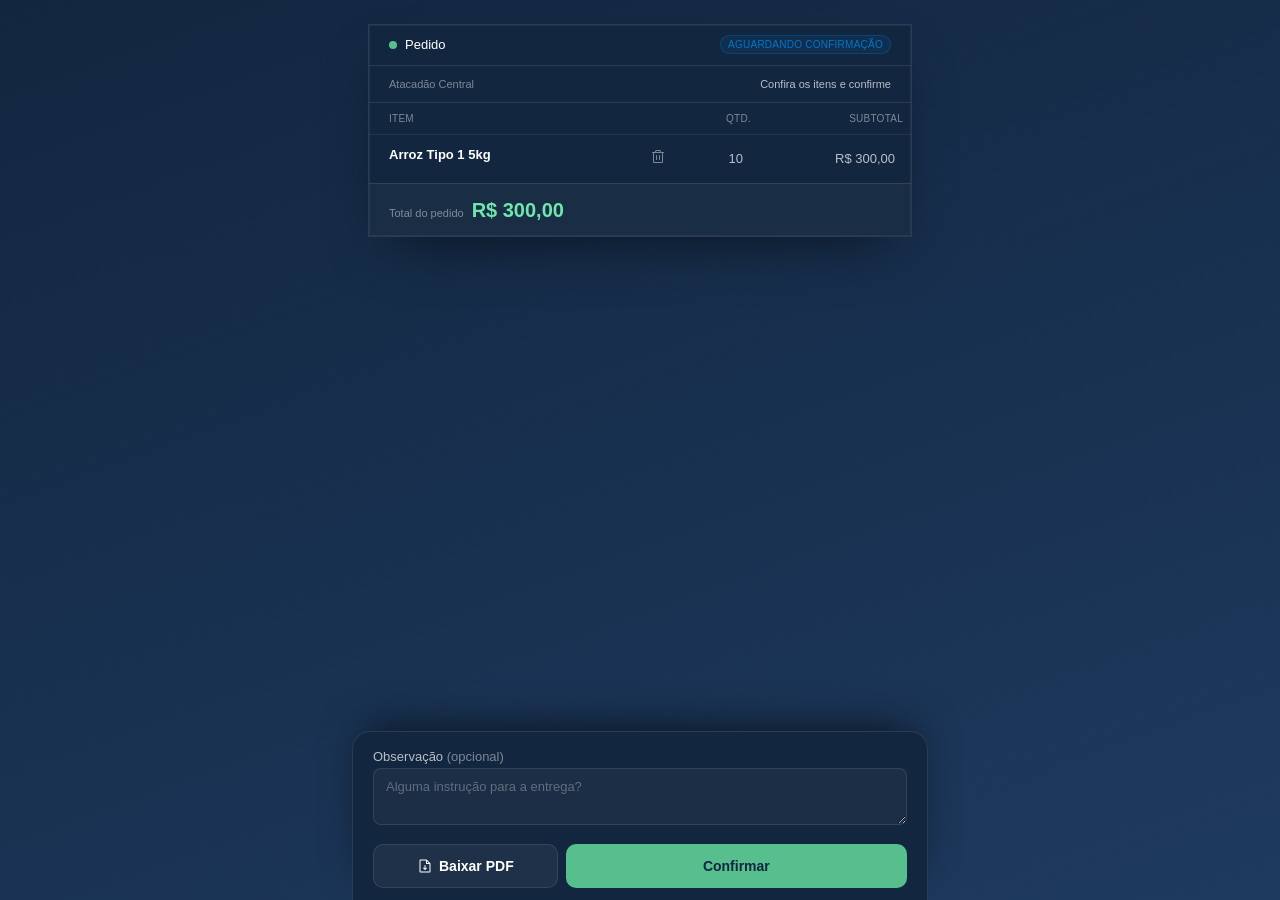
Scenario: erro ProblemDetail na confirmação é exibido
Click the button "Confirmar" at point(736, 866), box [566, 844, 907, 888]
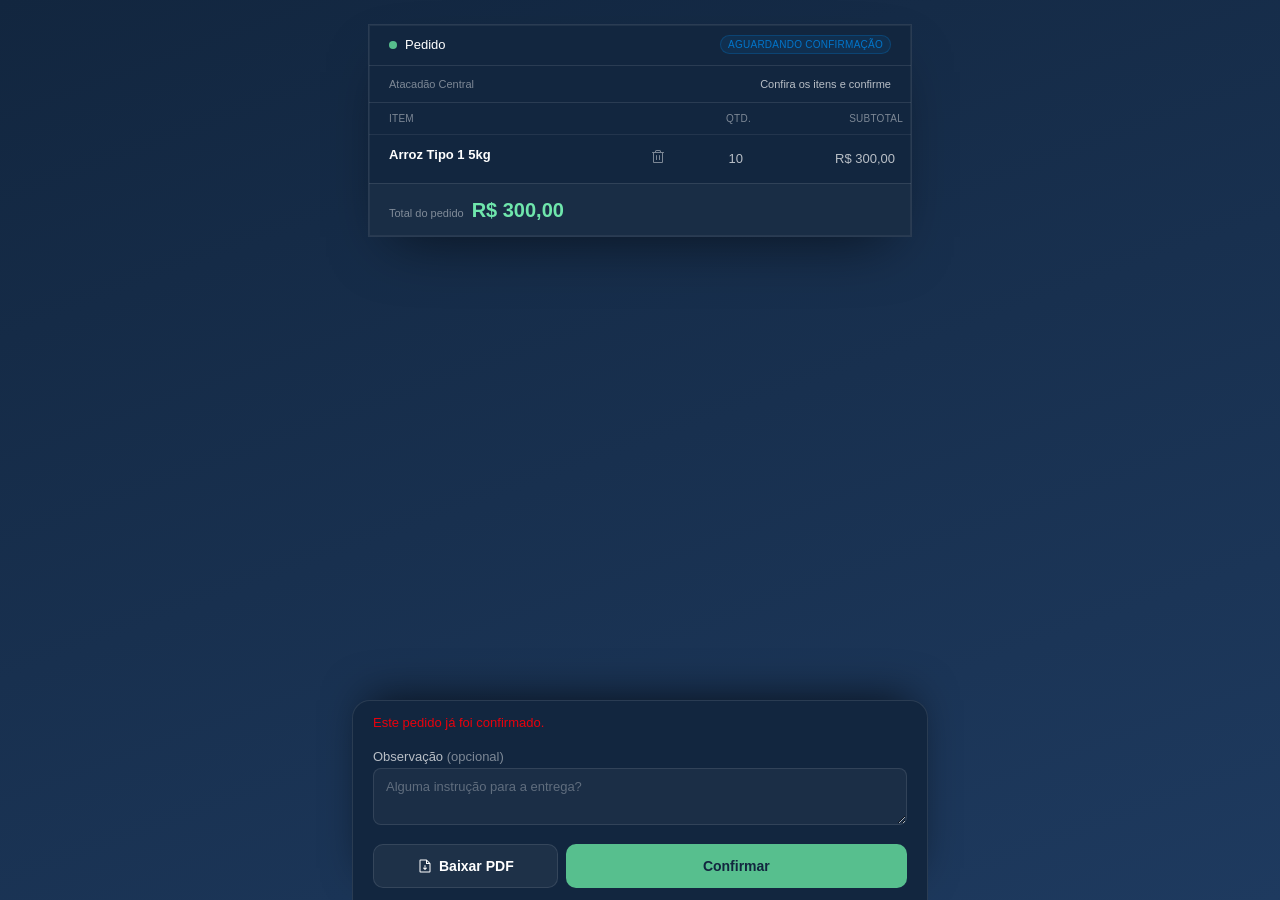
Expected: the message reads "Este pedido já foi confirmado.", [373, 714, 544, 730]
